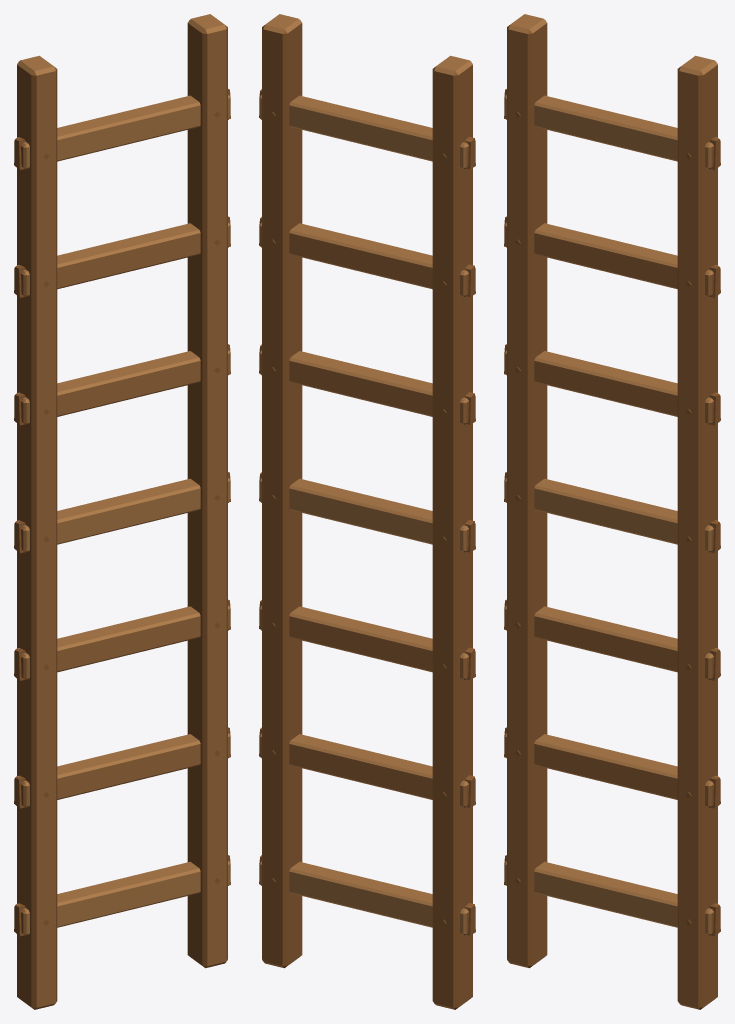
File: Wooden Mine Ladder.glb
3 renders of one model, left to right at view 1: azimuth 30°, elevation 25°; view 2: azimuth 150°, elevation 25°; view 3: azimuth 330°, elevation 25°, orthographic.
Parts seen in each view (by area): view 1: Wooden Mine Ladder.Static; view 2: Wooden Mine Ladder.Static; view 3: Wooden Mine Ladder.Static.
Boxes of the visible parts, box(x1,y1,x2,y2) form: Wooden Mine Ladder.Static: box(14, 14, 230, 1009); Wooden Mine Ladder.Static: box(259, 14, 475, 1009); Wooden Mine Ladder.Static: box(504, 14, 720, 1009).
Size of the model in its own units: 0.588 by 2.5 by 0.093.
